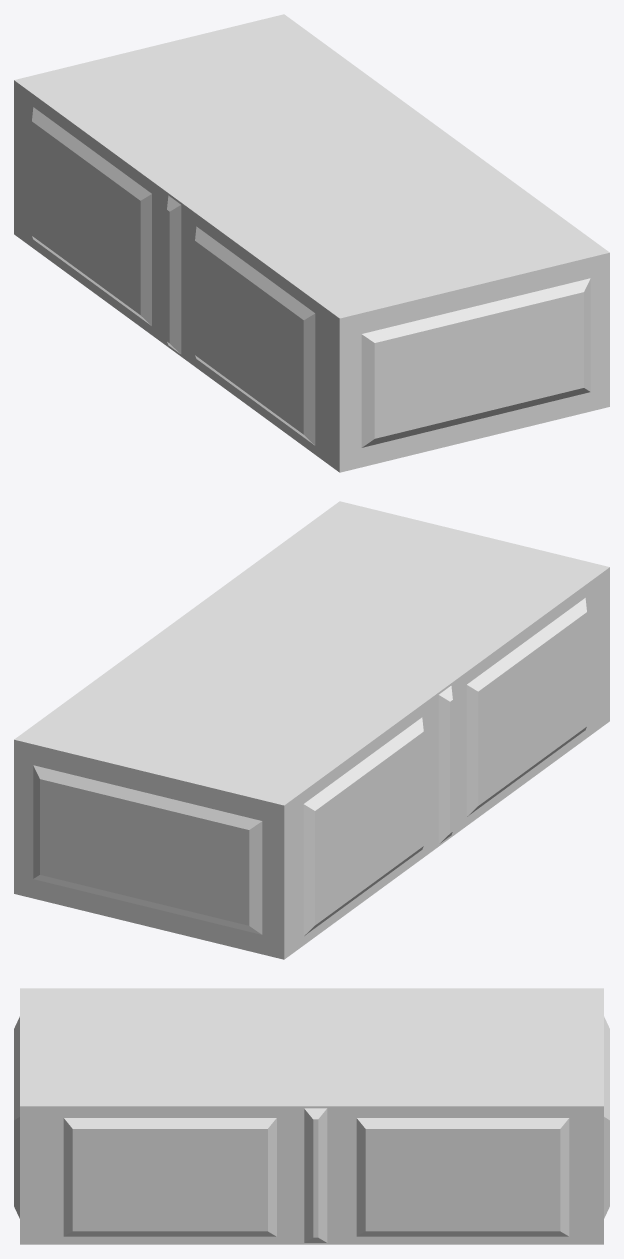
The model's file is Itr_Bed_Single_Body_04.FBX.
3 views of the same model, one above another, from view 1: azimuth 30°, elevation 25°; view 2: azimuth 150°, elevation 25°; view 3: azimuth 270°, elevation 25° (orthographic). The views are drawn at different scales.
Visible parts, largest first — view 1: Itr_Bed_Single_Body_04; view 2: Itr_Bed_Single_Body_04; view 3: Itr_Bed_Single_Body_04.
Boxes of the visible parts, x1,y1,x2,y2 form: Itr_Bed_Single_Body_04: (14, 14, 609, 472); Itr_Bed_Single_Body_04: (14, 501, 609, 959); Itr_Bed_Single_Body_04: (14, 988, 609, 1244).
Size of the model in its own units: 45.4 by 23.62 by 92.26.
